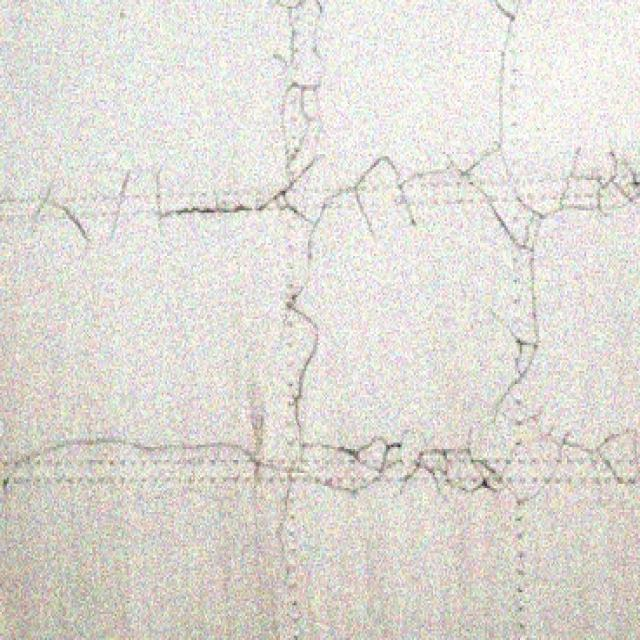crack: (23, 139, 640, 250), (2, 419, 640, 502), (273, 3, 339, 585), (490, 3, 551, 502)
